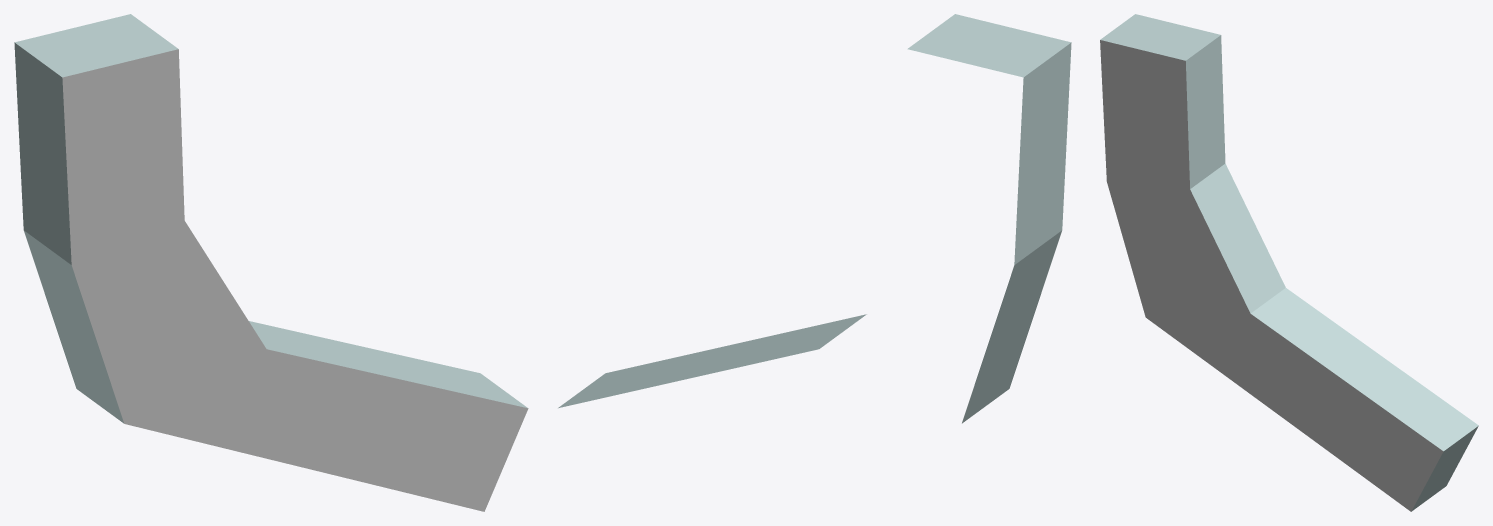
3 views of the same model, side by side, from view 1: azimuth 30°, elevation 25°; view 2: azimuth 150°, elevation 25°; view 3: azimuth 330°, elevation 25° (orthographic). The views are drawn at different scales.
Visible parts, largest first — view 1: 0_1_1_2_3_1_3_3; view 2: 0_1_1_2_3_1_3_3; view 3: 0_1_1_2_3_1_3_3.
Boxes of the visible parts, x1,y1,x2,y2 form: 0_1_1_2_3_1_3_3: [14, 14, 528, 511]; 0_1_1_2_3_1_3_3: [558, 14, 1071, 423]; 0_1_1_2_3_1_3_3: [1100, 14, 1478, 511].
Size of the model in its own units: 16.82 by 18.54 by 3.
